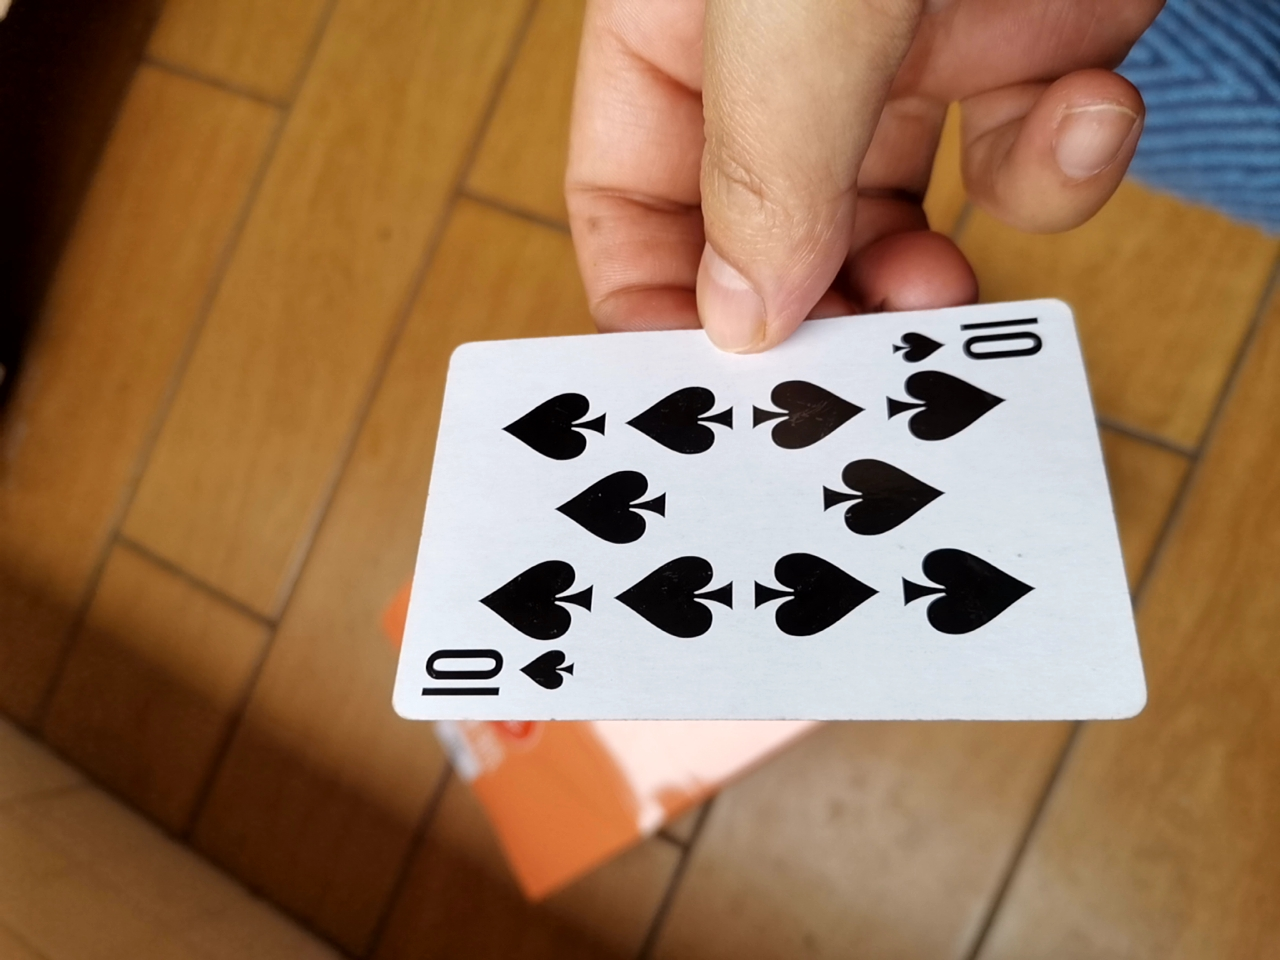ht 10: (372, 293, 1136, 774)
